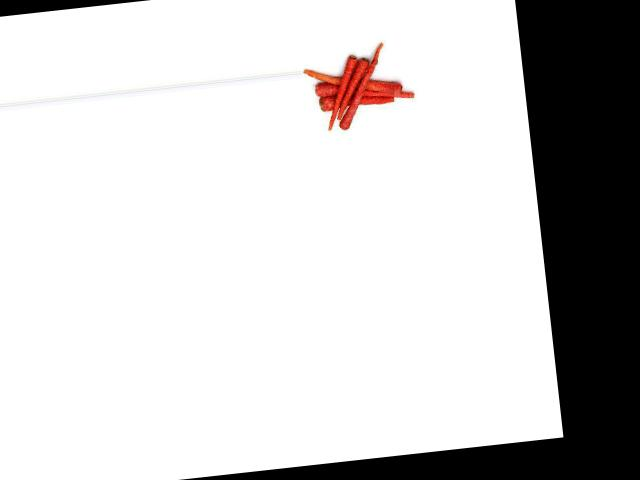carrot: (319, 57, 360, 130)
